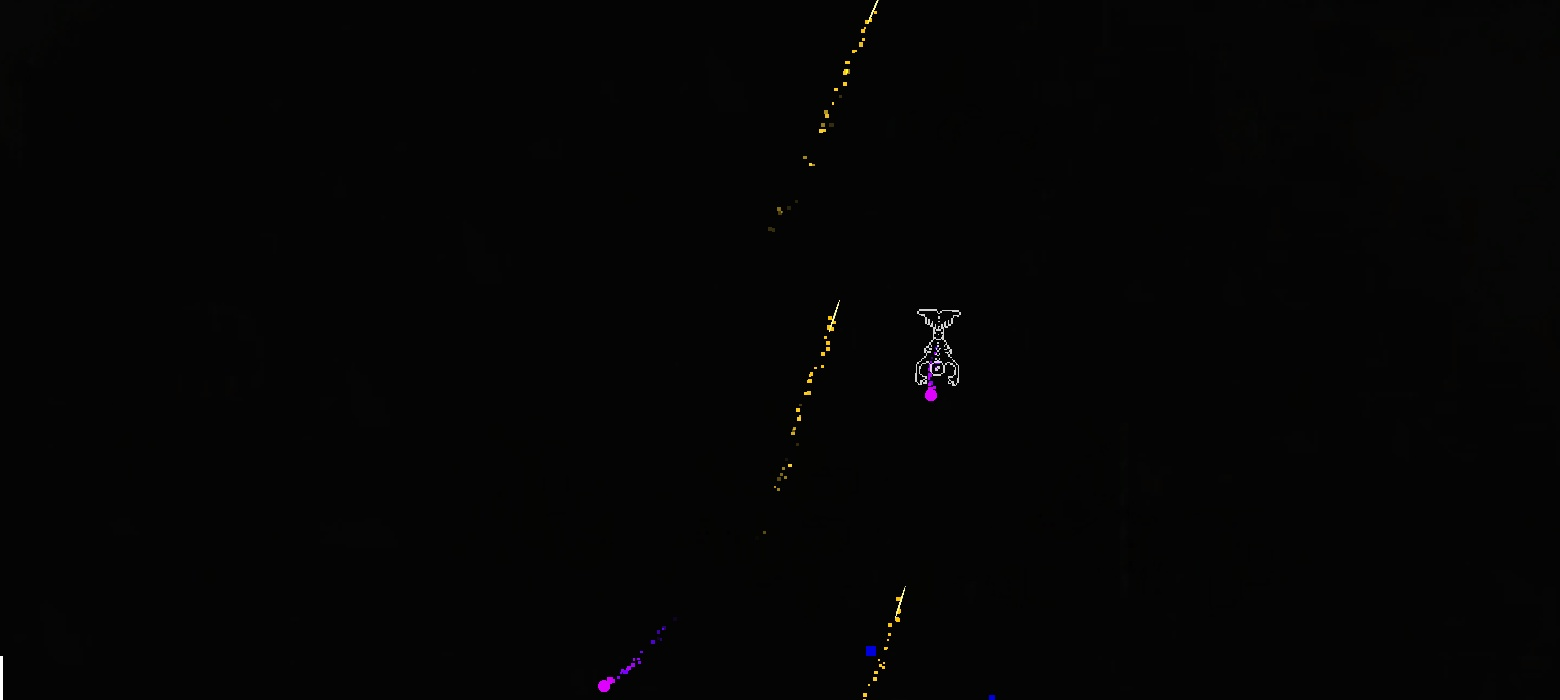enemy: (914, 309, 961, 387)
